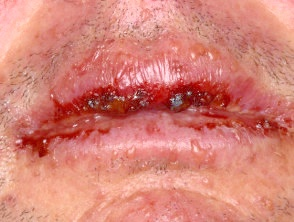SJS-TEN: (0, 27, 294, 222)
